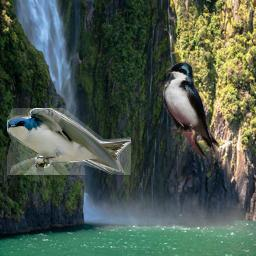Swallow: (7, 108, 131, 175), (161, 61, 220, 157)
